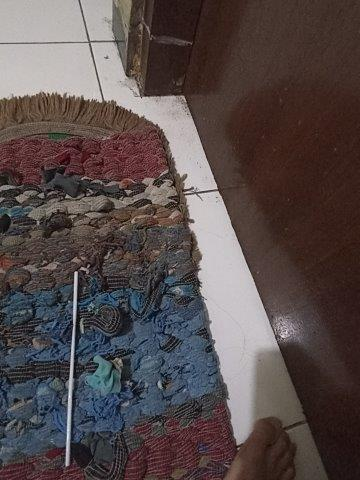sedotan: (65, 272, 78, 467)
